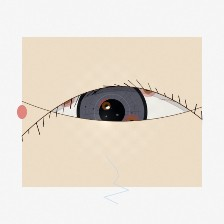foreign_body_visible: (50, 85, 82, 111)
